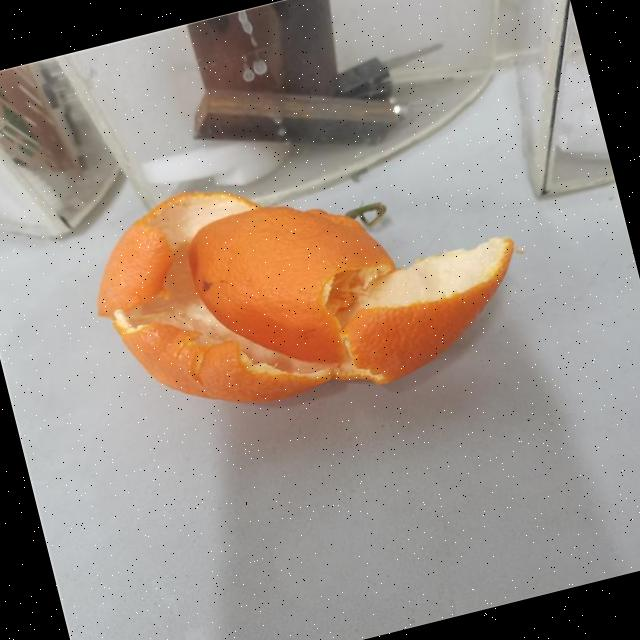orange-peel: (72, 115, 540, 448)
